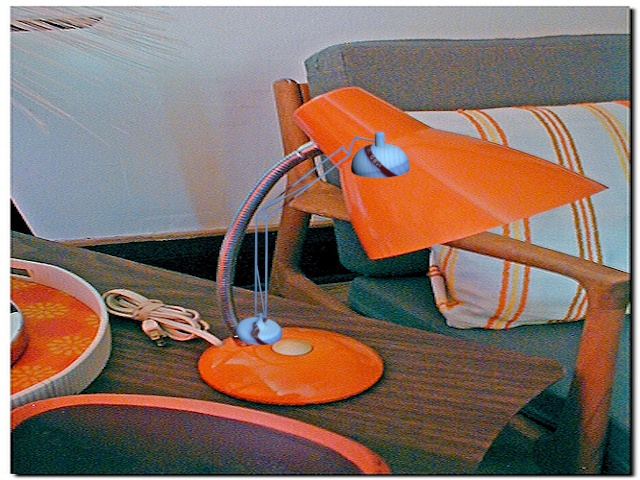desk_lamp: (224, 128, 417, 353)
